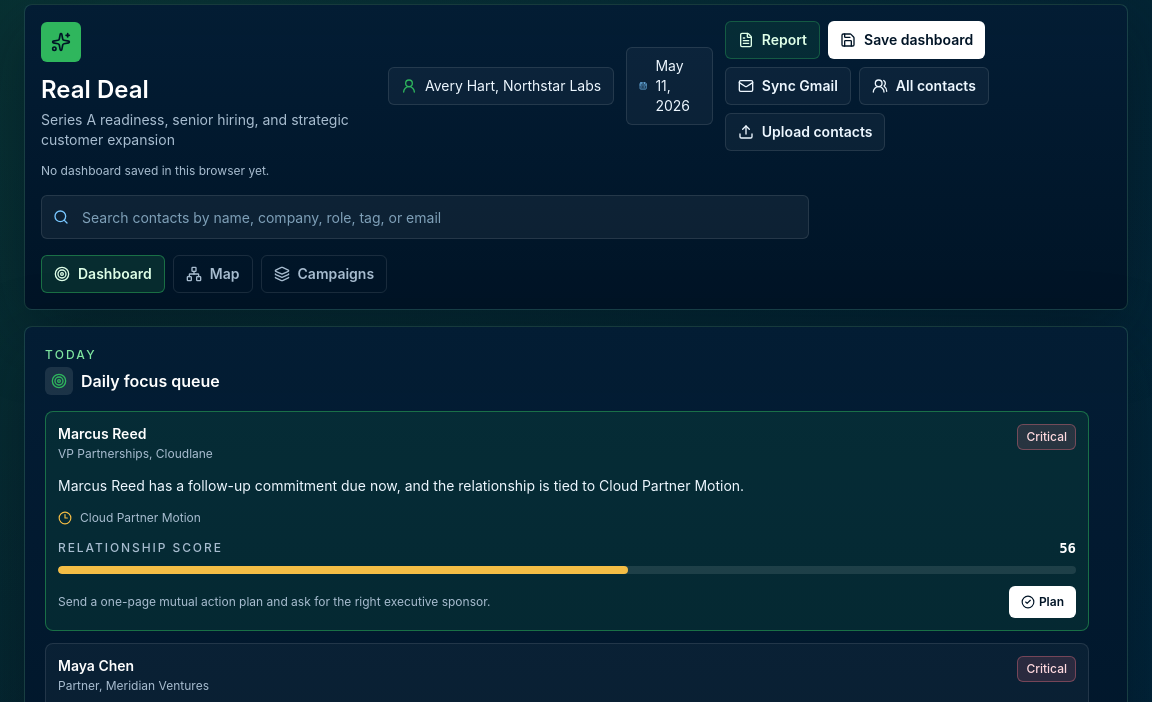
Scenario: FounderWorkspace › opens the campaigns workspace and selects a campaign
Click the button "Campaigns" at (324, 274), box [260, 255, 387, 293]
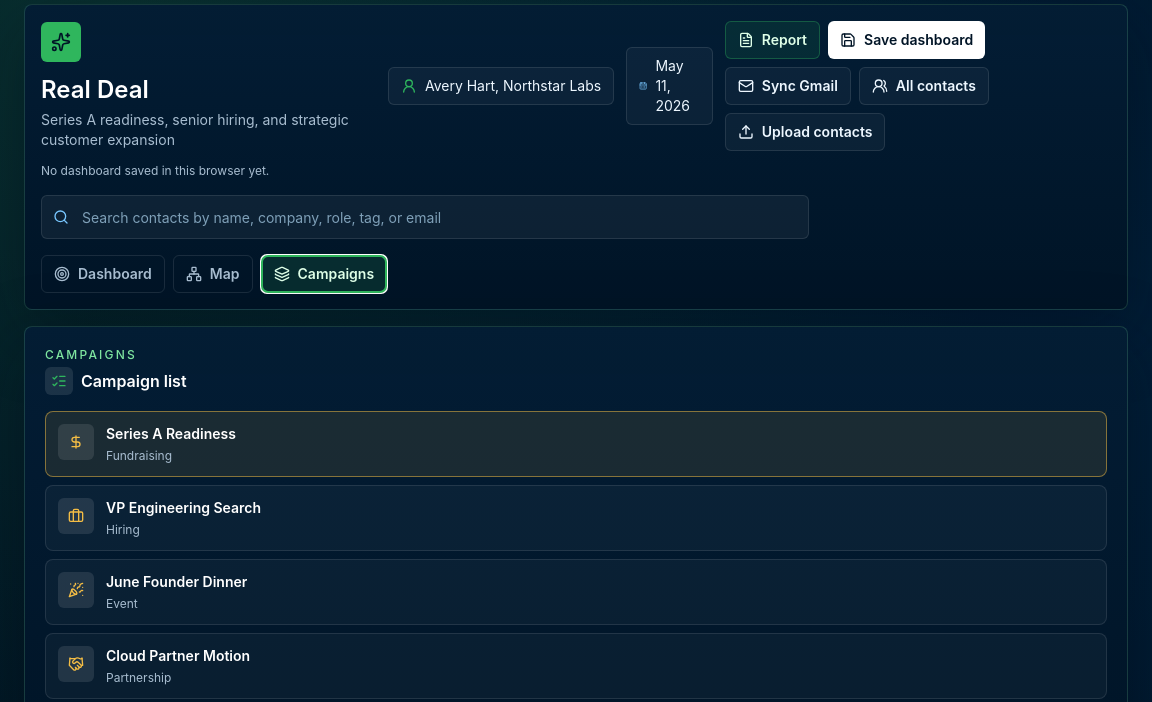
Click the button "Cloud Partner Motion Partnership" at (76, 664), box [45, 633, 1107, 699]
(page scrolled)
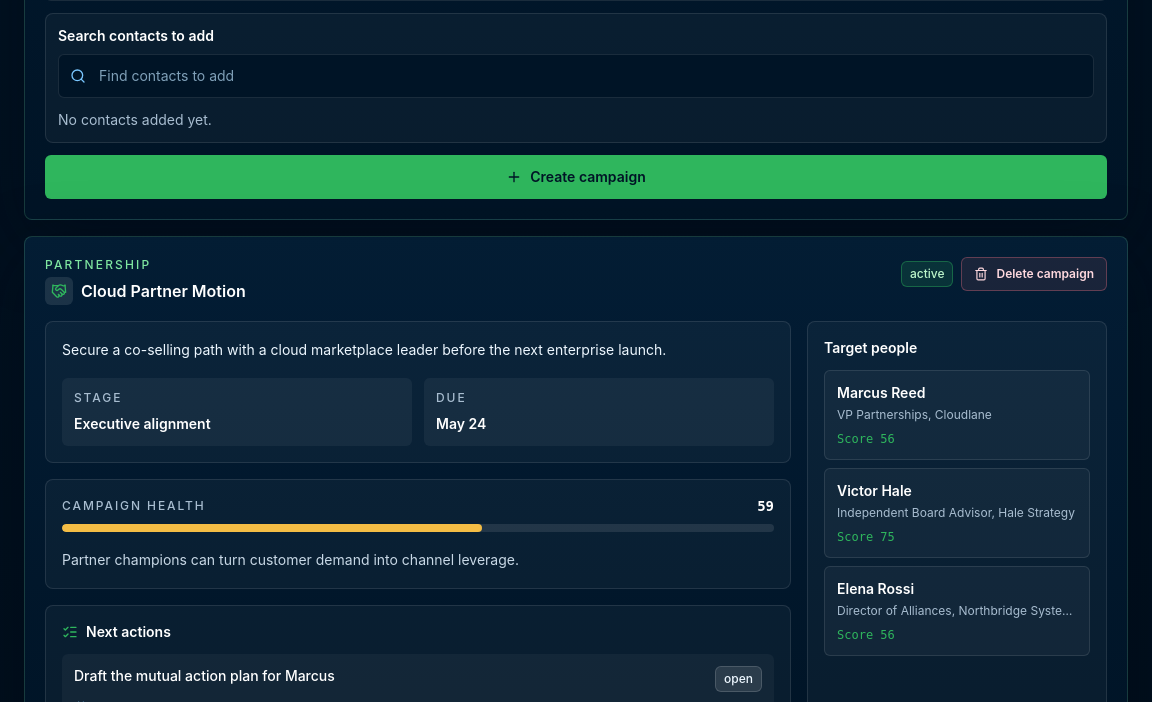
Now the text "Target people" is shown, box [824, 339, 917, 356]
Now the heading "Cloud Partner Motion" is shown, box [81, 279, 246, 303]
